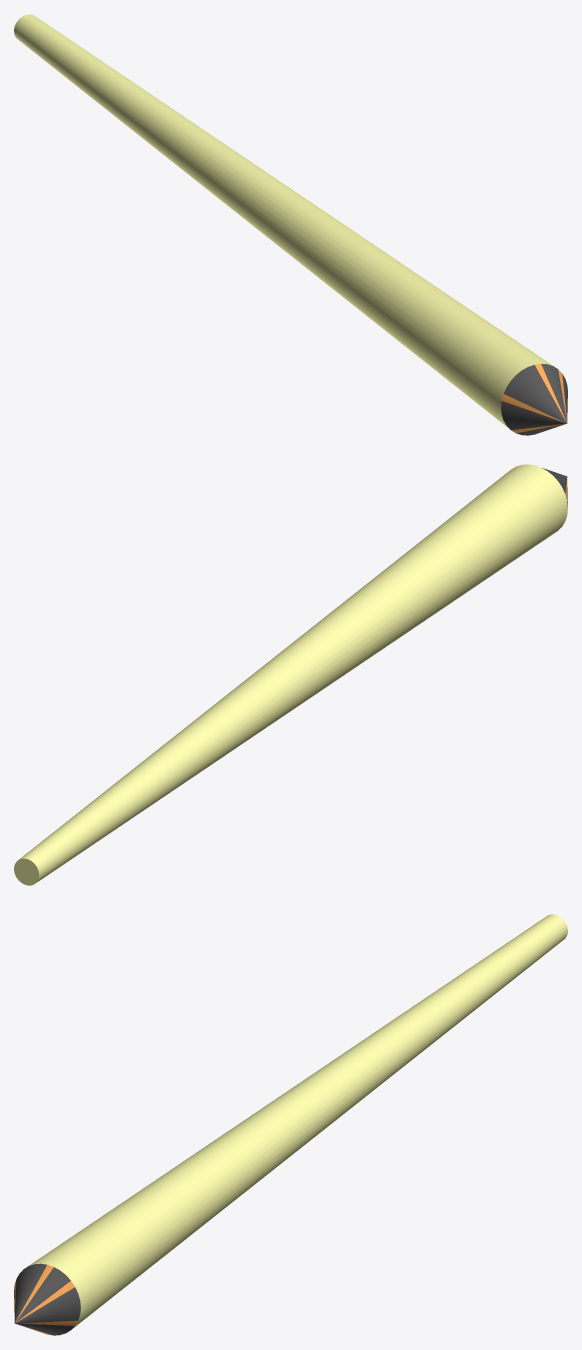
The model's file is LowPolyJoint.fbx.
3 views of the same model, one above another, from view 1: azimuth 30°, elevation 25°; view 2: azimuth 150°, elevation 25°; view 3: azimuth 330°, elevation 25° (orthographic).
Visible parts, largest first — view 1: Cylinder.001; view 2: Cylinder.001; view 3: Cylinder.001.
Boxes of the visible parts, left/top/right/bottom form: Cylinder.001: left=14, top=14, right=567, bottom=435; Cylinder.001: left=14, top=464, right=567, bottom=885; Cylinder.001: left=14, top=914, right=567, bottom=1335.
Size of the model in its own units: 47.32 by 47.32 by 662.
